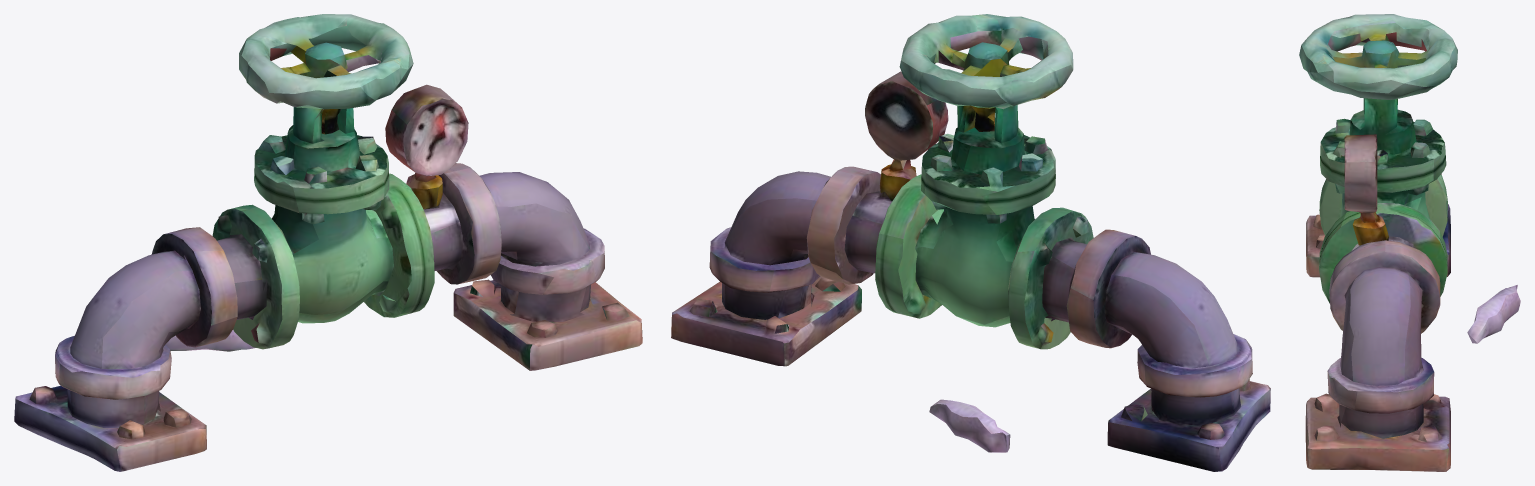
File: pipe_run.glb
3 renders of one model, left to right at view 1: azimuth 30°, elevation 25°; view 2: azimuth 150°, elevation 25°; view 3: azimuth 270°, elevation 25°, orthographic. The views are drawn at different scales.
Visible parts, largest first — view 1: pipe_run_s41; view 2: pipe_run_s41; view 3: pipe_run_s41.
Part boxes in pixels (box(x1,y1,x2,y2)): pipe_run_s41: box(14, 14, 642, 471); pipe_run_s41: box(671, 14, 1270, 471); pipe_run_s41: box(1299, 14, 1520, 471).
Bounding box in the file's own units: 1 × 0.5815 × 0.3801.
Materials: 1 (1 with a texture image).
